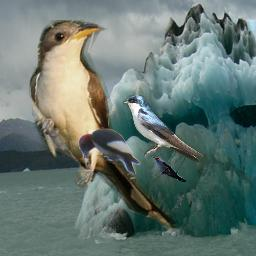Cuckoo: (29, 20, 179, 236), (152, 156, 186, 182)
Swallow: (123, 95, 204, 162)
Woodpecker: (76, 127, 142, 176)
